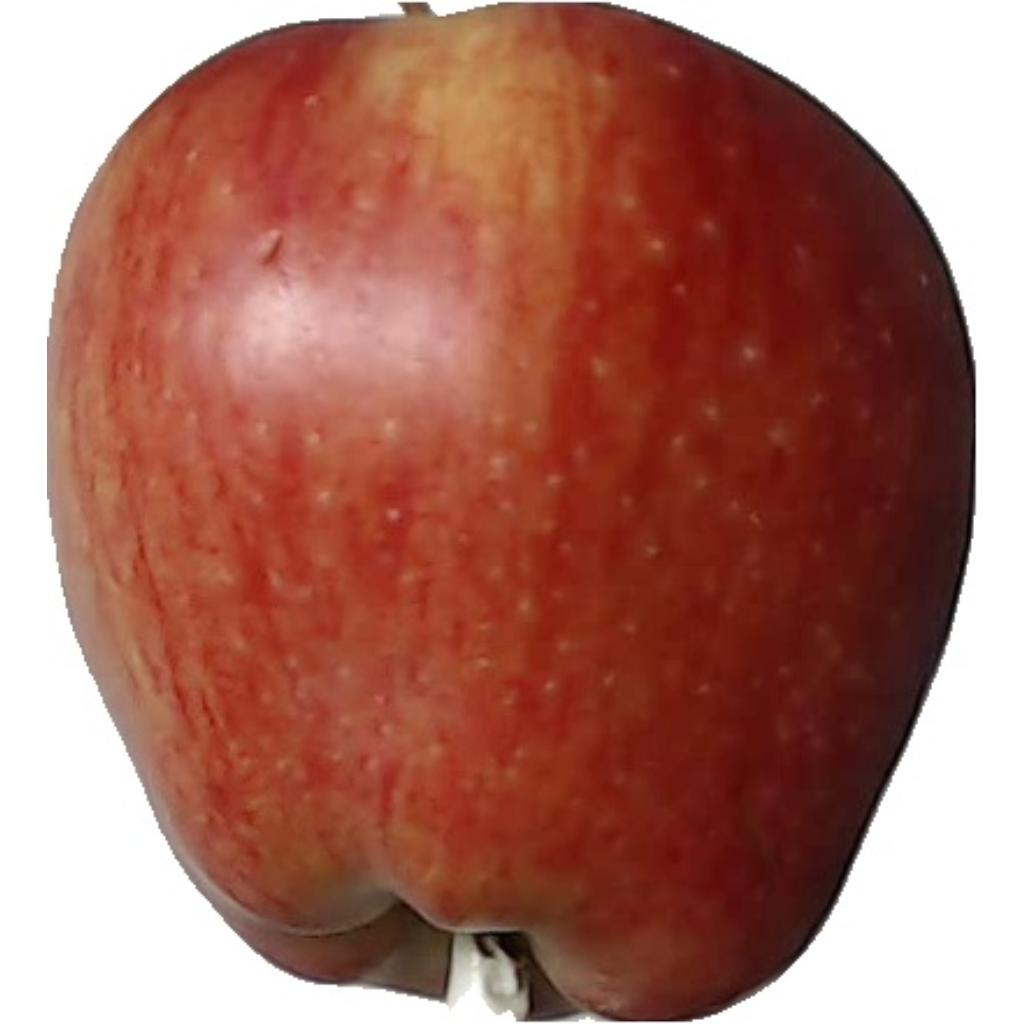apple: (50, 4, 972, 1018)
